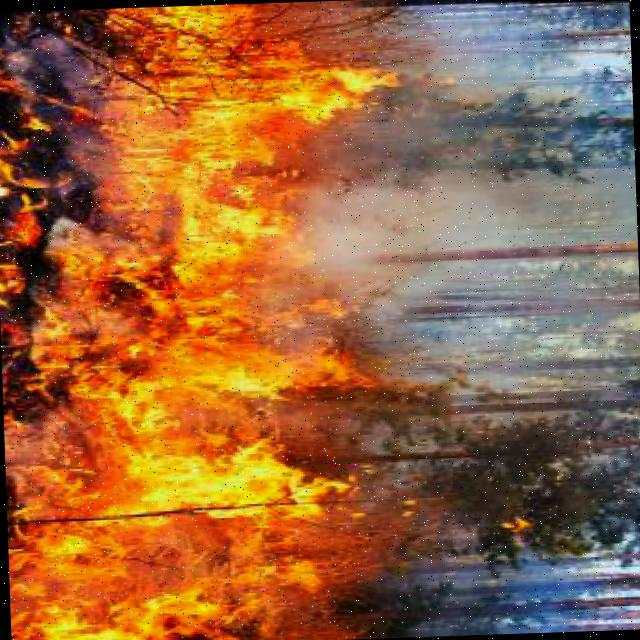fire: (0, 300, 389, 640), (0, 0, 413, 294), (0, 198, 369, 415)
